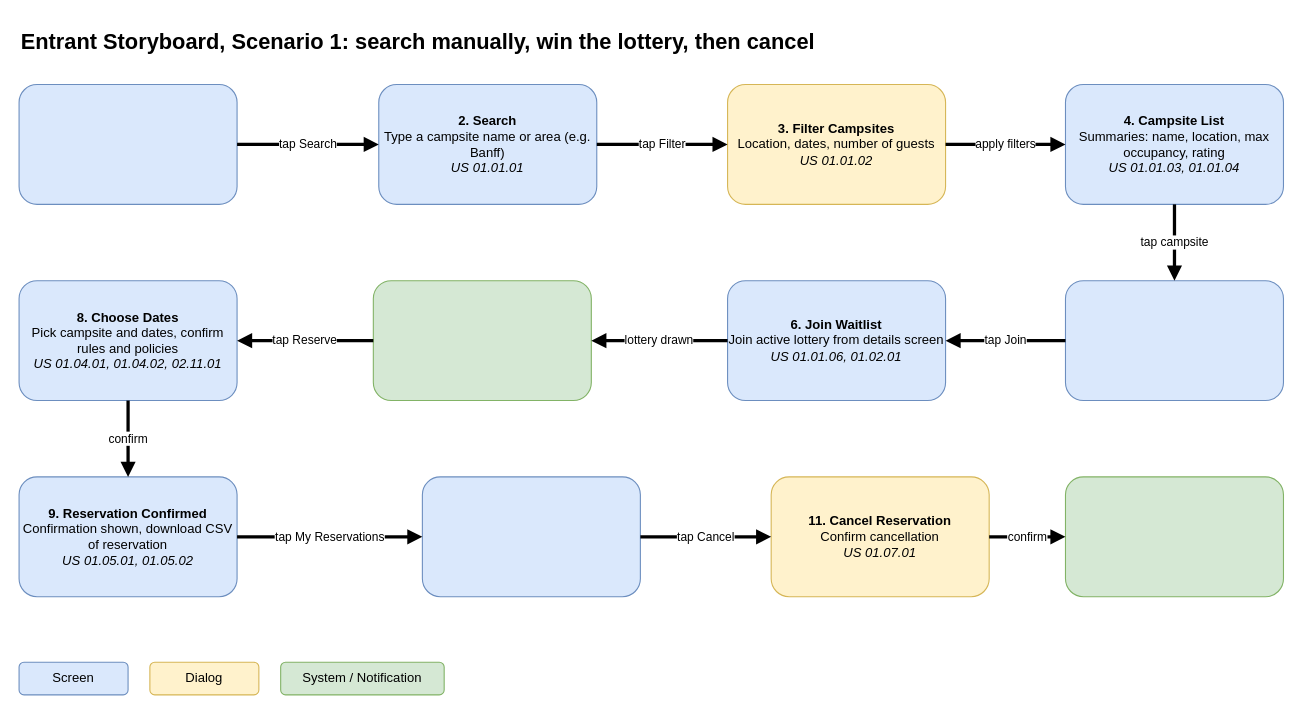
The diagram is 1303 pixels wide and 714 high, and some of its shapes have lost their labels. The box of each missing label's shape, as (x1, y1, x2, y2) in pixels:
1. Main Page (Home) Entrant identified by device, no login US 01.09.01: (18, 83, 237, 204)
10. My Reservations List of active reservations US 01.06.01: (421, 476, 640, 597)
12. Cancellation Notification Confirmation by notification or CSV US 01.07.02: (1064, 476, 1283, 597)
5. Campsite Details Full details and active lottery US 01.01.05: (1064, 280, 1283, 401)
7. Win Notification Entrant is told they won the lottery US 01.03.01: (372, 280, 591, 401)
